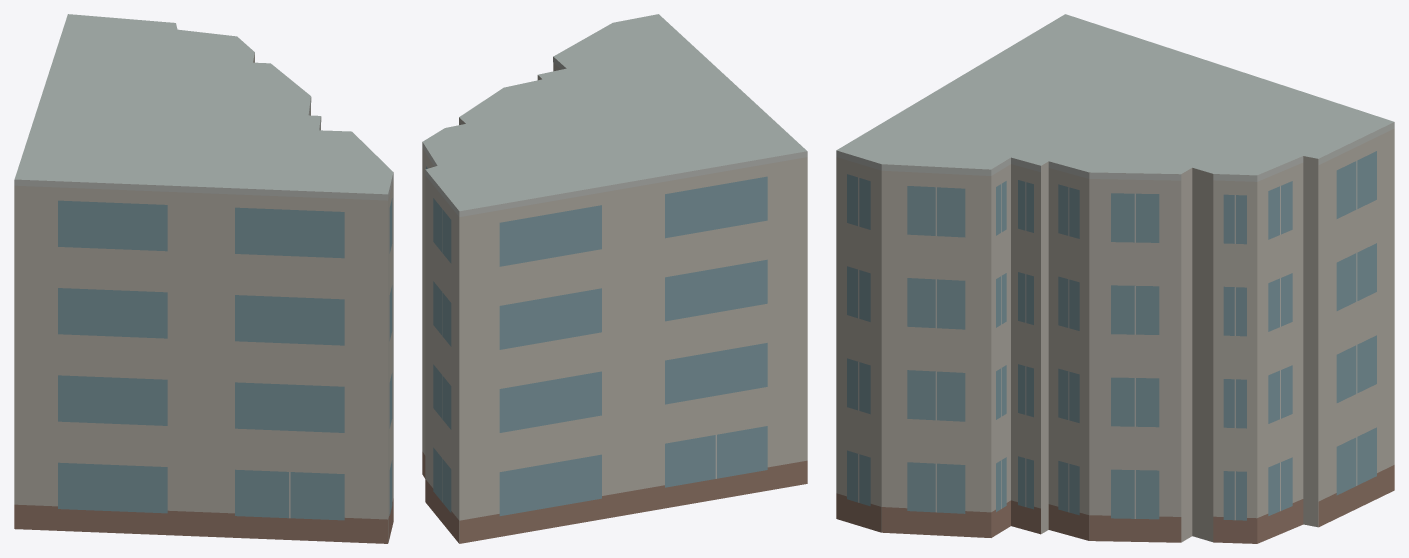
The model's file is survey-upis-32772881.glb.
3 views of the same model, side by side, from view 1: azimuth 30°, elevation 25°; view 2: azimuth 150°, elevation 25°; view 3: azimuth 270°, elevation 25° (orthographic). The views are drawn at different scales.
Parts seen in each view (by area): view 1: survey-upis-32772881.tmp; view 2: survey-upis-32772881.tmp; view 3: survey-upis-32772881.tmp.
Boxes of the visible parts, <box> form: survey-upis-32772881.tmp: <box>14,14,393,543</box>; survey-upis-32772881.tmp: <box>422,14,807,543</box>; survey-upis-32772881.tmp: <box>836,14,1394,543</box>.
Bounding box in the file's own units: 12.97 × 13.8 × 18.96.
